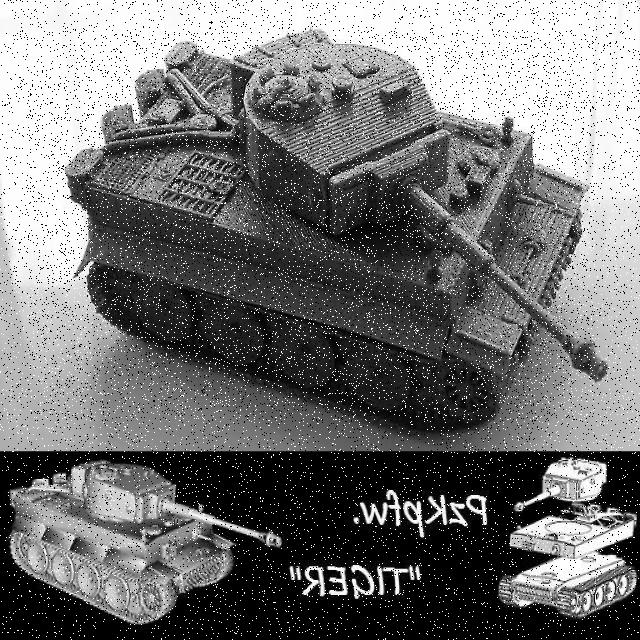MIL_MBT: (27, 31, 595, 421), (7, 459, 279, 603)
